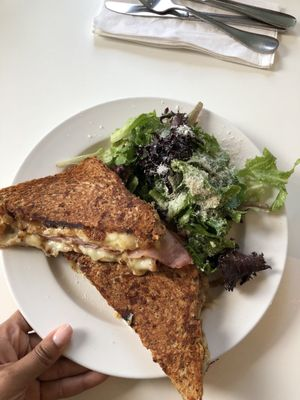burger: (101, 0, 283, 69), (97, 31, 281, 70)
curry: (87, 105, 291, 280)
sandwich: (101, 2, 280, 70), (115, 0, 295, 32)
soup: (0, 154, 209, 399)
